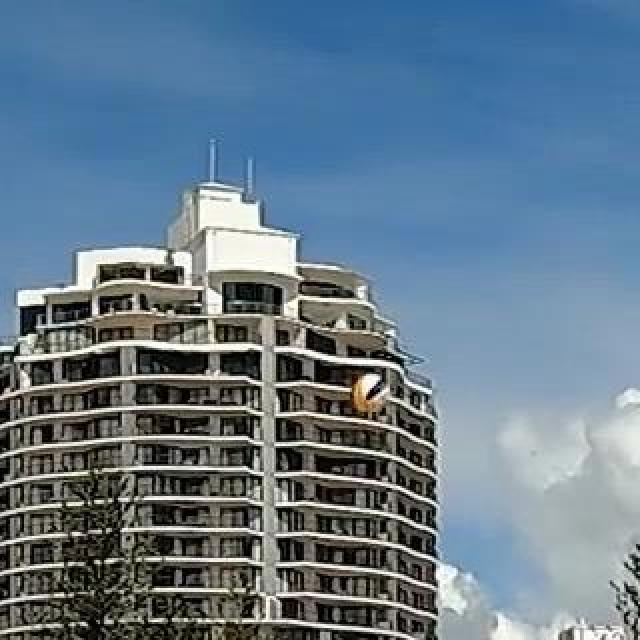volleyball: (351, 374, 387, 412)
